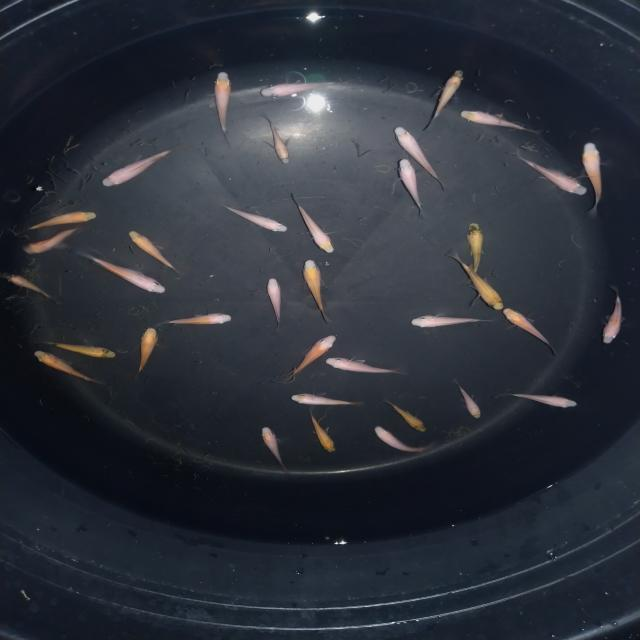nila: (75, 250, 171, 298), (388, 124, 452, 192), (282, 186, 342, 256), (442, 249, 506, 314), (421, 61, 474, 136), (100, 144, 182, 192), (507, 152, 588, 198), (21, 350, 112, 390), (125, 225, 186, 278), (296, 257, 340, 330), (286, 327, 344, 382), (452, 106, 548, 138), (388, 158, 433, 226), (12, 204, 105, 234), (16, 222, 90, 258), (502, 305, 556, 354), (256, 76, 361, 100), (218, 202, 290, 236), (246, 424, 294, 474), (291, 408, 343, 454), (489, 386, 584, 411), (39, 335, 122, 363), (208, 67, 237, 147), (578, 137, 605, 219), (0, 272, 65, 306), (256, 114, 295, 170), (324, 356, 412, 380), (600, 279, 629, 350), (403, 310, 496, 332), (369, 423, 432, 455), (378, 398, 428, 436), (450, 374, 486, 426), (132, 322, 164, 380), (460, 218, 484, 284), (262, 276, 291, 330), (148, 313, 239, 329), (284, 392, 362, 408)
